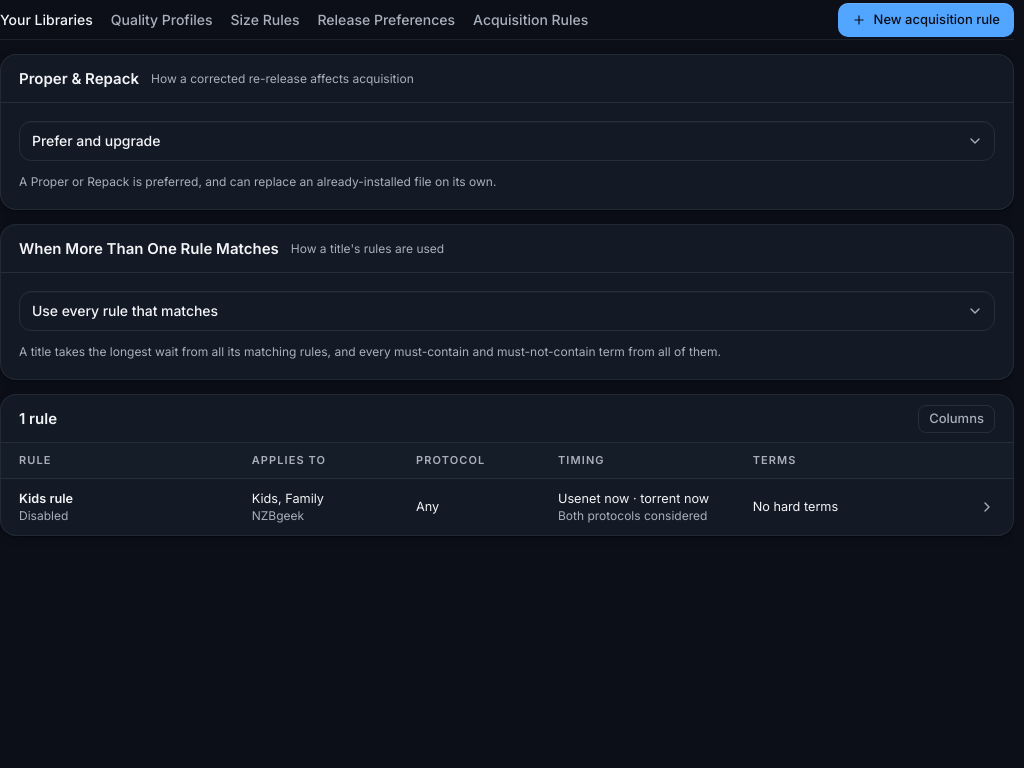
it: release profile enable/disable and indexer scoping (#770) › opens the drawer with an enabled switch defaulted on for a new rule, and a checkbox per configured indexer
Click the button "New acquisition rule".
click(926, 20)  # box [838,2,1014,36]
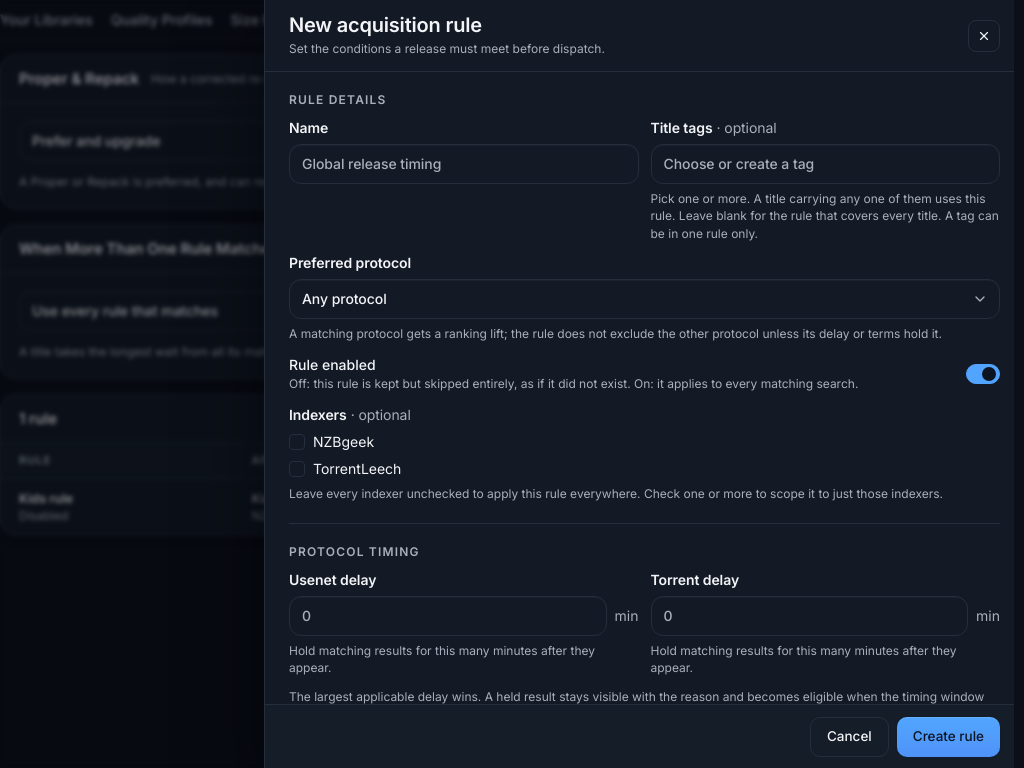
Check: the dialog is shown
